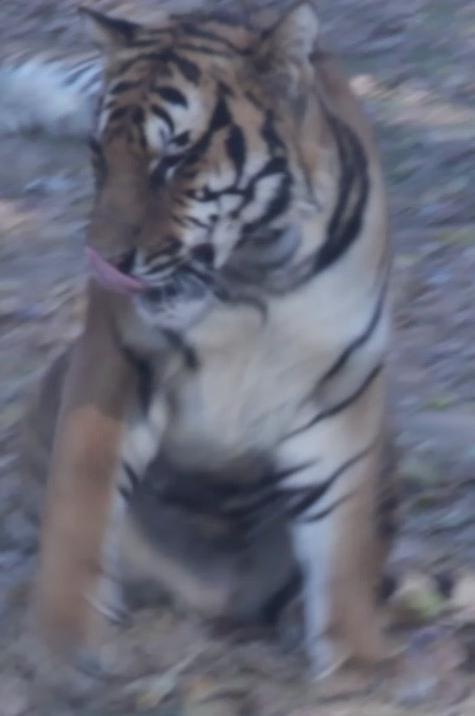tiger: (30, 0, 397, 678)
